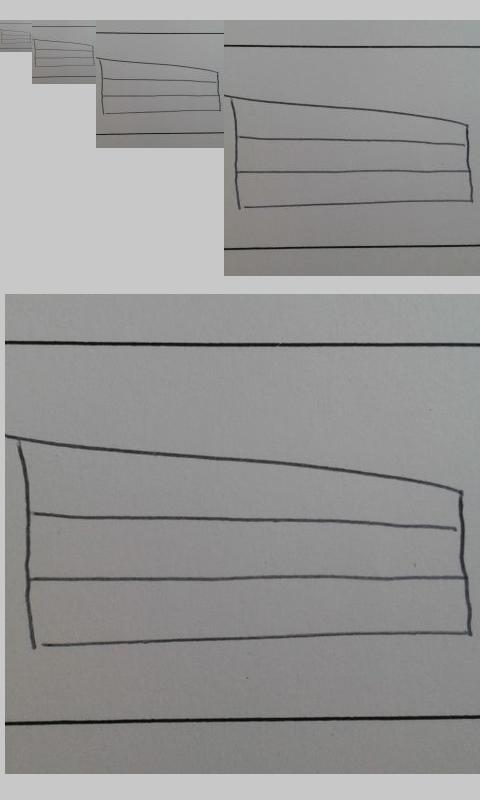list_view: (14, 434, 473, 655), (229, 92, 474, 210), (99, 56, 223, 116), (33, 38, 94, 68), (5, 30, 31, 45)
